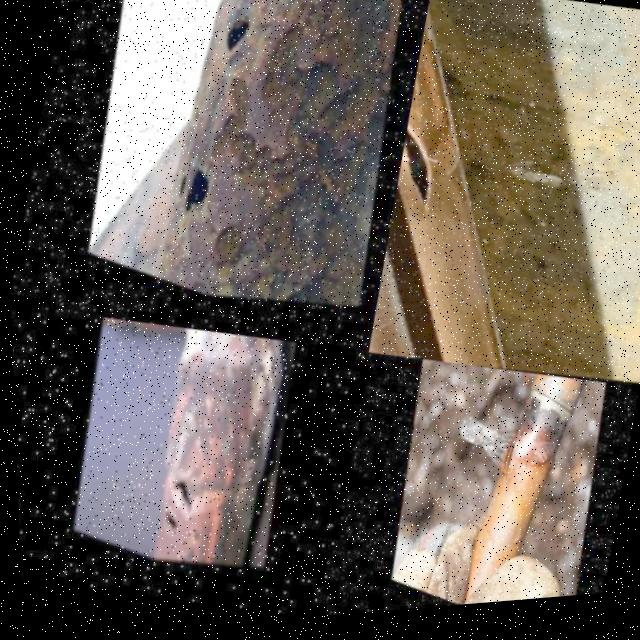hole: (201, 8, 256, 81), (167, 171, 218, 240), (154, 471, 198, 530), (166, 529, 203, 578), (151, 511, 182, 550), (162, 178, 189, 221)
rupture: (394, 130, 447, 239), (493, 439, 519, 499)
